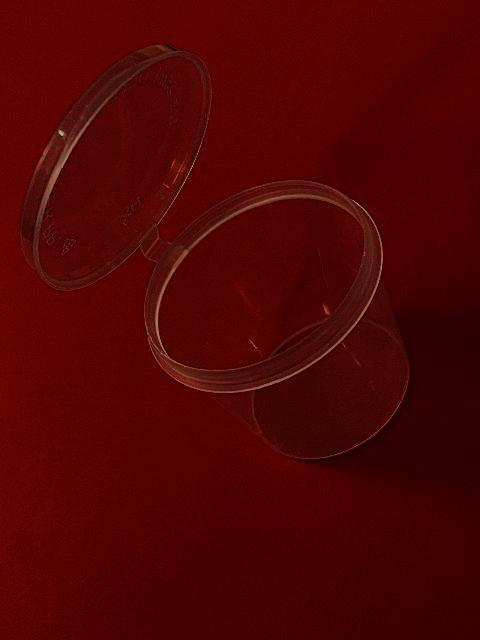plasticcontainer: (17, 40, 411, 462)
